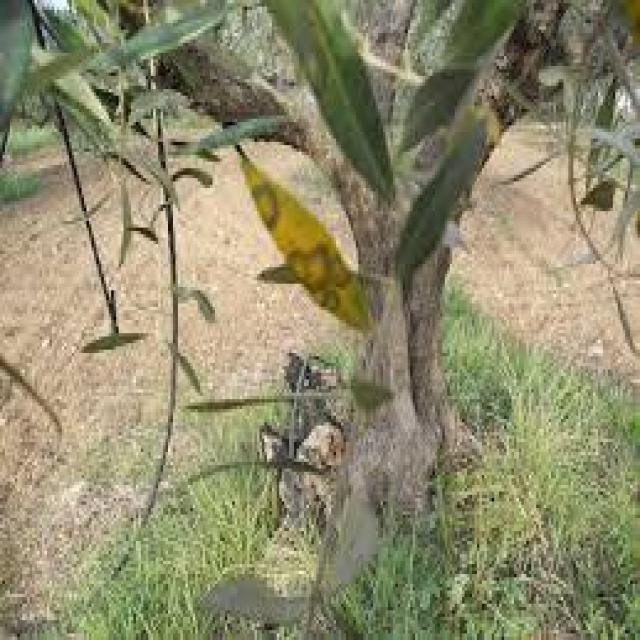Peacock Eye: (239, 142, 367, 330)
